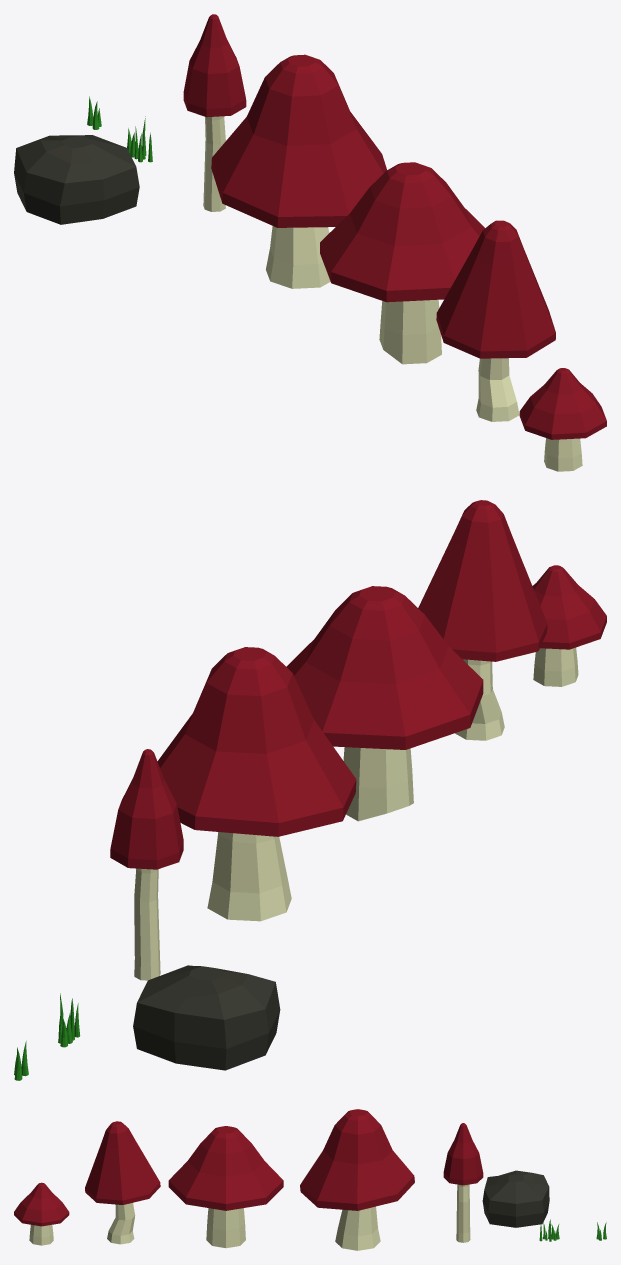
Rendered from MUSHROOM.fbx.
3 views of the same model, one above another, from view 1: azimuth 30°, elevation 25°; view 2: azimuth 150°, elevation 25°; view 3: azimuth 270°, elevation 25° (orthographic). The views are drawn at different scales.
Visible parts, largest first — view 1: Cube.001, Cube, Cube.003, Stone, Cube.004, Mushroom1.001, Mushroom3, Mushroom4, Mushroom2, Mushroom5, Cube.021, Grass2; view 2: Cube.001, Cube, Cube.003, Stone, Mushroom4, Cube.004, Mushroom3, Mushroom1.001, Mushroom5, Mushroom2, Cube.021; view 3: Cube.001, Cube, Cube.003, Stone, Cube.004, Mushroom4, Mushroom1.001, Mushroom3, Mushroom2, Mushroom5, Cube.021, Grass2.
Boxes of the visible parts, x1=… form: Cube.001: x1=211, y1=54, x2=386, y2=227; Cube: x1=320, y1=162, x2=484, y2=302; Cube.003: x1=436, y1=220, x2=555, y2=358; Stone: x1=14, y1=135, x2=139, y2=224; Cube.004: x1=183, y1=14, x2=246, y2=117; Mushroom1.001: x1=519, y1=368, x2=606, y2=439; Mushroom3: x1=379, y1=299, x2=441, y2=364; Mushroom4: x1=266, y1=226, x2=330, y2=288; Mushroom2: x1=476, y1=358, x2=519, y2=421; Mushroom5: x1=203, y1=116, x2=225, y2=211; Cube.021: x1=544, y1=438, x2=582, y2=471; Grass2: x1=127, y1=116, x2=152, y2=162; Cube.001: x1=157, y1=647, x2=356, y2=836; Cube: x1=286, y1=586, x2=483, y2=749; Cube.003: x1=418, y1=500, x2=547, y2=661; Stone: x1=133, y1=965, x2=280, y2=1070; Mushroom4: x1=207, y1=832, x2=291, y2=921; Cube.004: x1=110, y1=749, x2=183, y2=869; Mushroom3: x1=343, y1=747, x2=413, y2=821; Mushroom1.001: x1=532, y1=565, x2=606, y2=649; Mushroom5: x1=134, y1=868, x2=160, y2=980; Mushroom2: x1=455, y1=659, x2=504, y2=740; Cube.021: x1=533, y1=647, x2=578, y2=686; Cube.001: x1=300, y1=1109, x2=414, y2=1210; Cube: x1=168, y1=1126, x2=283, y2=1210; Cube.003: x1=85, y1=1121, x2=160, y2=1204; Stone: x1=482, y1=1170, x2=549, y2=1227; Cube.004: x1=443, y1=1123, x2=483, y2=1185; Mushroom4: x1=335, y1=1206, x2=380, y2=1250; Mushroom1.001: x1=14, y1=1182, x2=69, y2=1226; Mushroom3: x1=206, y1=1208, x2=245, y2=1248; Mushroom2: x1=107, y1=1203, x2=135, y2=1244; Mushroom5: x1=456, y1=1184, x2=470, y2=1242; Cube.021: x1=29, y1=1225, x2=53, y2=1245; Grass2: x1=539, y1=1219, x2=559, y2=1241.
Size of the model in its own units: 6.01 by 5.39 by 22.49.
